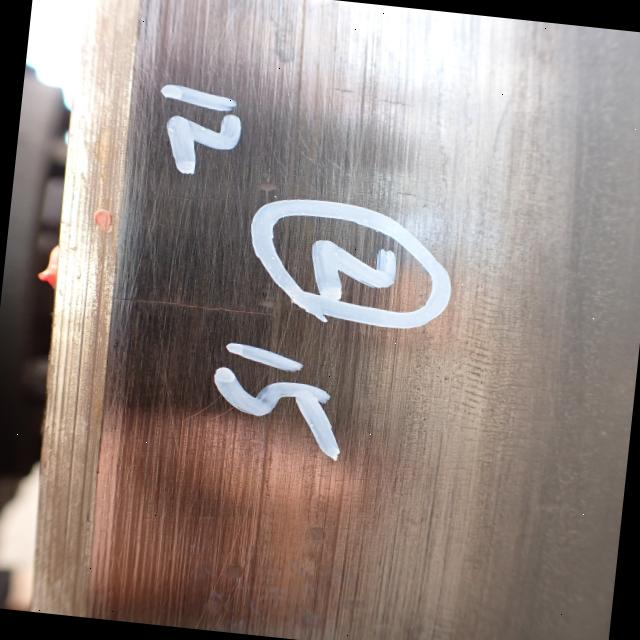Brake_Thermal_Cracks: (110, 295, 278, 322), (134, 217, 242, 237), (150, 190, 253, 209)
